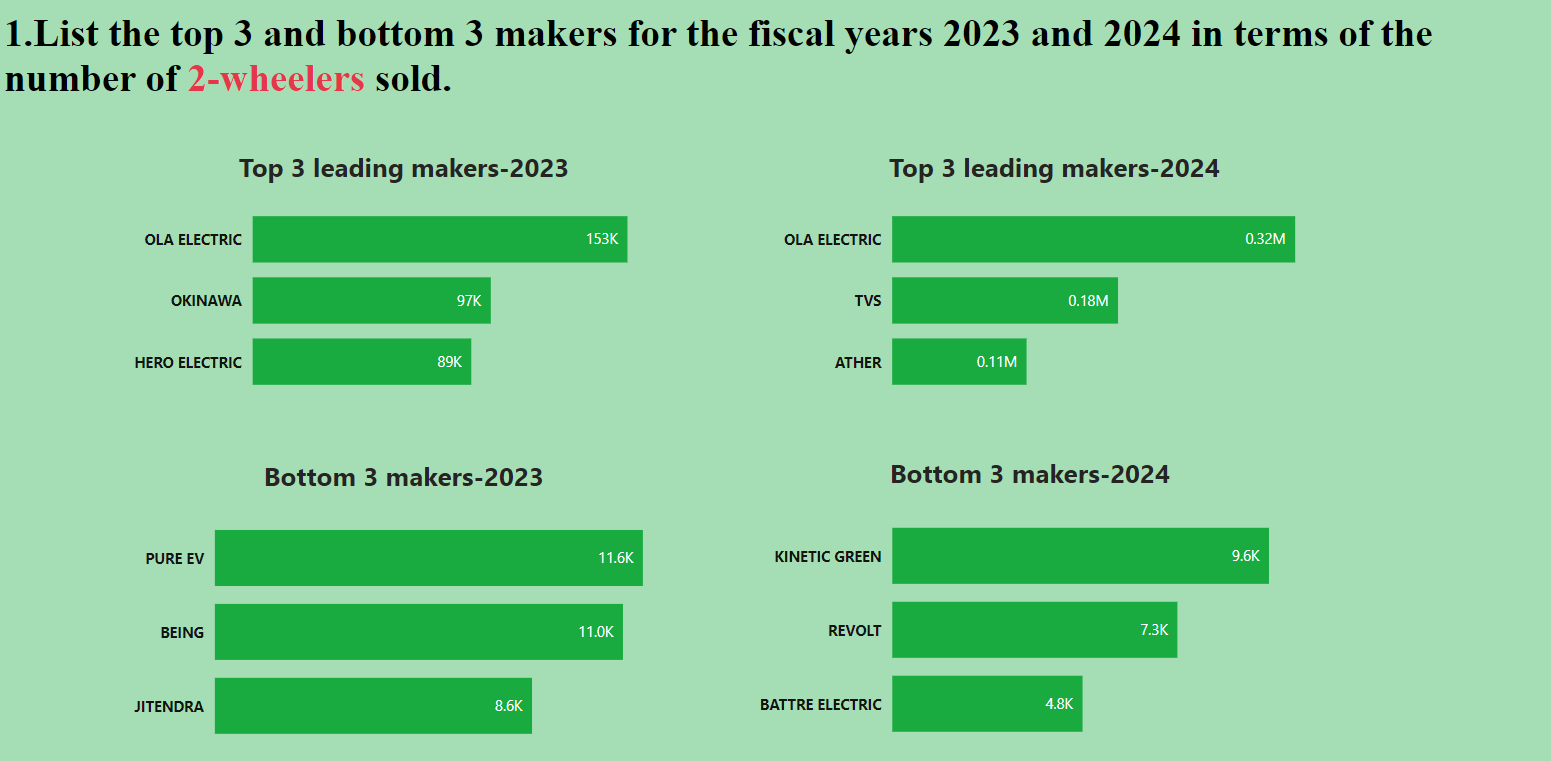

This screenshot's page, from the dashboard's own definition file:
{"tool":"powerbi","page":{"name":"qn1","canvas":[1280,720],"ordinal":5},"visuals":[{"type":"shape","box":[41.6,101.3,1154,531.8],"z":0},{"type":"barChart","title":"Top 3 leading makers-2023","fields":{"Category":["electric_vehicle_sales_by_makers.maker"],"Y":["KeyMeasures.EV_vehicle_sold_maker"]},"box":[105,115.5,455.8,220.4],"z":1000},{"type":"barChart","title":"Bottom 3 makers-2023","fields":{"Category":["electric_vehicle_sales_by_makers.maker"],"Y":["KeyMeasures.EV_vehicle_sold_maker"]},"box":[128.4,359.9,455.8,258.6],"z":2000},{"type":"textbox","box":[0,0,1280.6,132],"z":3000},{"type":"barChart","title":"Top 3 leading makers-2024","fields":{"Category":["electric_vehicle_sales_by_makers.maker"],"Y":["KeyMeasures.EV_vehicle_sold_maker"]},"box":[640.2,115.5,455.8,220.4],"z":4000},{"type":"barChart","title":"Bottom 3 makers-2024","fields":{"Category":["electric_vehicle_sales_by_makers.maker"],"Y":["KeyMeasures.EV_vehicle_sold_maker"]},"box":[618.6,359.9,455.8,258.6],"z":5000},{"type":"pageNavigator","box":[0,647.7,1376.4,72],"z":6000}]}

Visuals, with their boxes on the page's 1280x720 design canvas (x1, y1, x2, y2). These are canvas units, not pixel positions in the 1551x761 screenshot, which may show the page scaled, cropped or inside an application window:
shape: select_region(42, 101, 1196, 633)
"Top 3 leading makers-2023" barChart: select_region(105, 116, 561, 336)
"Bottom 3 makers-2023" barChart: select_region(128, 360, 584, 618)
textbox: select_region(0, 0, 1281, 132)
"Top 3 leading makers-2024" barChart: select_region(640, 116, 1096, 336)
"Bottom 3 makers-2024" barChart: select_region(619, 360, 1074, 618)
pageNavigator: select_region(0, 648, 1376, 720)
